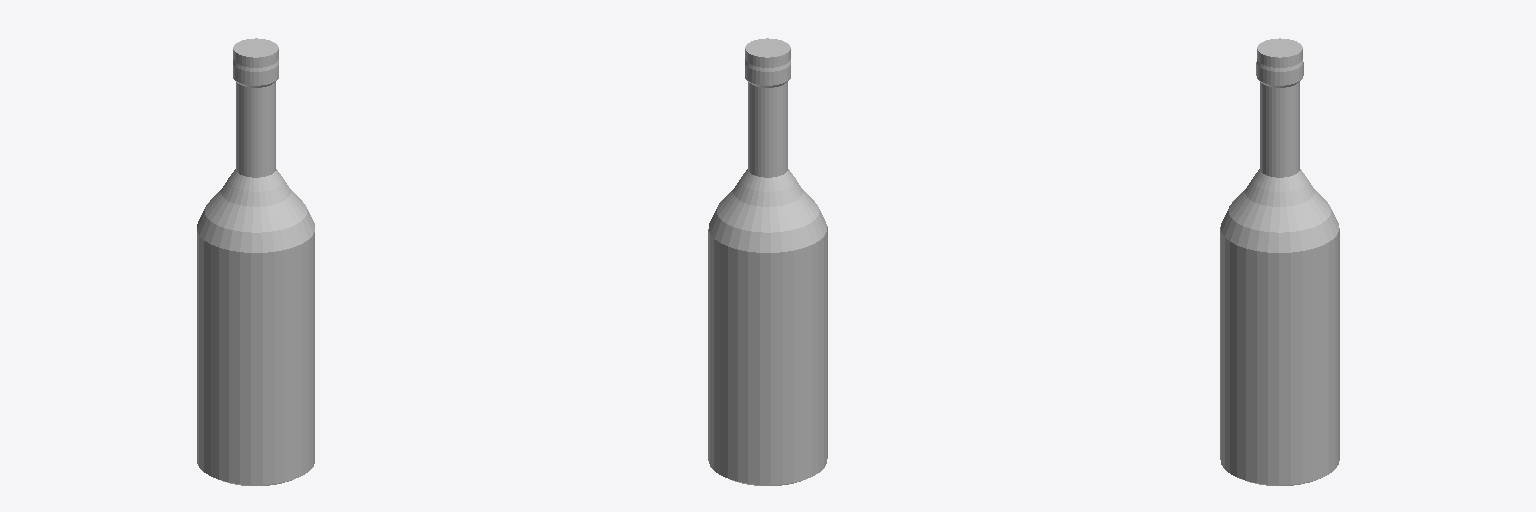
The model's file is wine.obj.
3 renders of one model, left to right at view 1: azimuth 30°, elevation 25°; view 2: azimuth 150°, elevation 25°; view 3: azimuth 270°, elevation 25°, orthographic.
Parts seen in each view (by area): view 1: Circle_Circle.001; view 2: Circle_Circle.001; view 3: Circle_Circle.001.
Boxes of the visible parts, x1=… form: Circle_Circle.001: x1=197, y1=38, x2=314, y2=485; Circle_Circle.001: x1=708, y1=38, x2=827, y2=485; Circle_Circle.001: x1=1220, y1=38, x2=1339, y2=485.
Size of the model in its own units: 1.14 by 4.37 by 1.14.